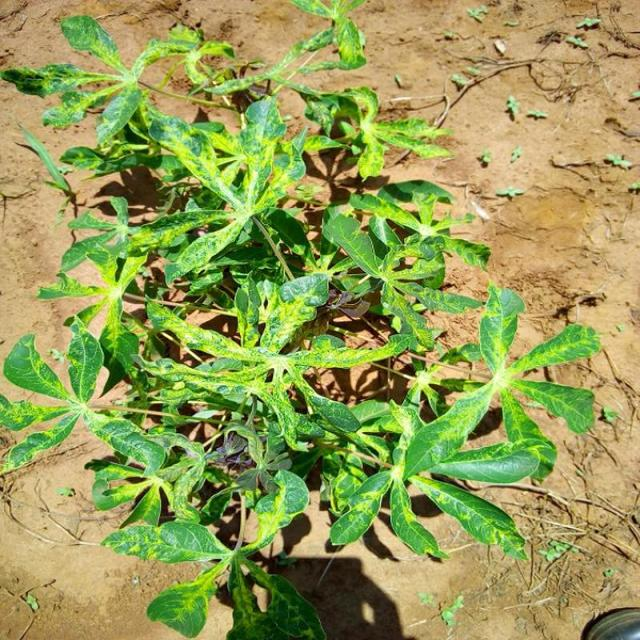cassava leaf: (2, 4, 604, 637)
